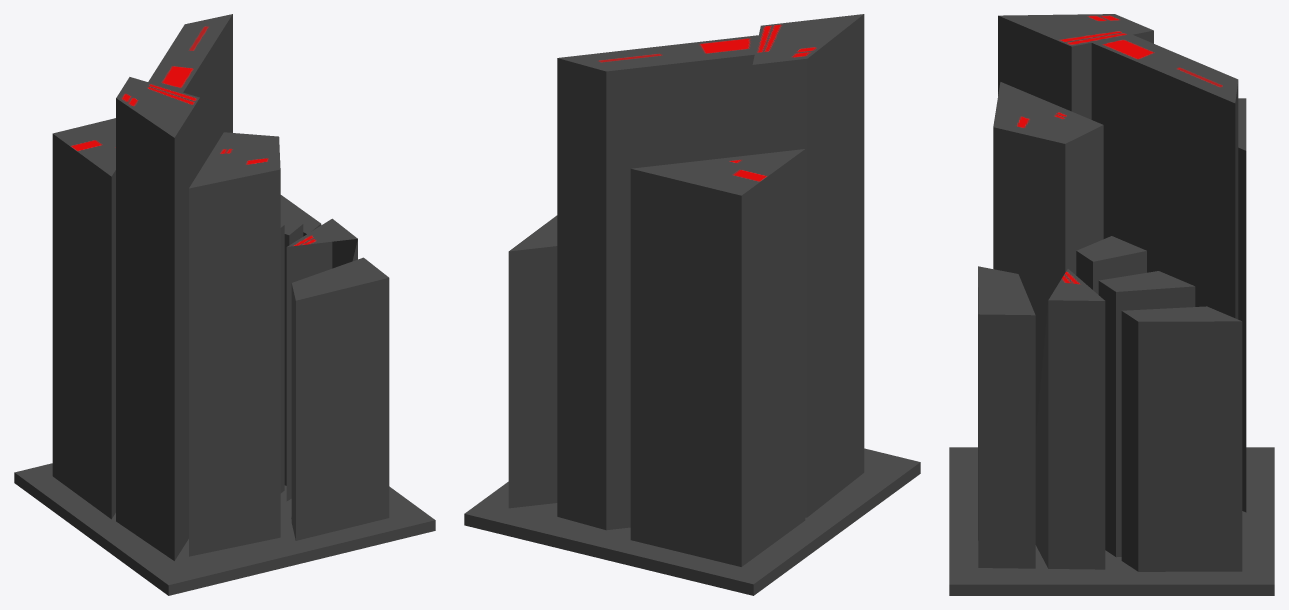
Rendered from block_1_low.FBX.
3 renders of one model, left to right at view 1: azimuth 30°, elevation 25°; view 2: azimuth 150°, elevation 25°; view 3: azimuth 270°, elevation 25°, orthographic. The views are drawn at different scales.
Visible parts, largest first — view 1: Plane01; view 2: Plane01; view 3: Plane01.
Boxes of the visible parts, box(x1,y1,x2,y2) form: Plane01: box(14, 14, 435, 595); Plane01: box(464, 14, 920, 595); Plane01: box(949, 14, 1274, 595).
Size of the model in its own units: 78.13 by 121 by 78.13.
